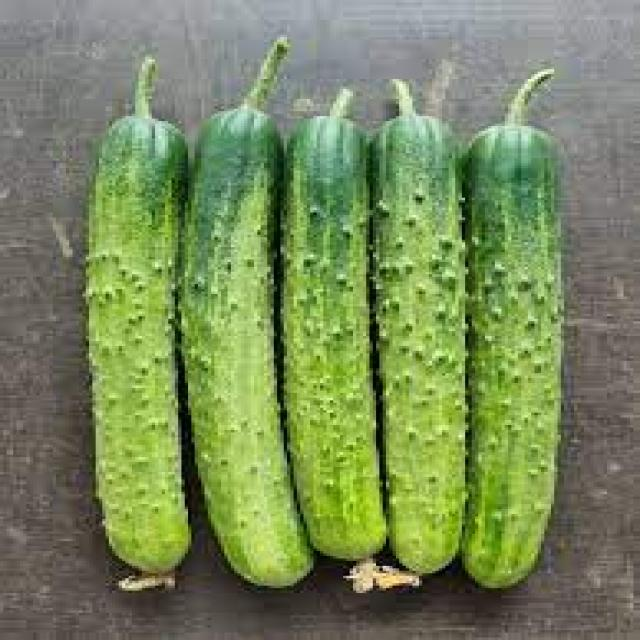cucumber: (182, 57, 314, 590), (270, 52, 380, 586), (79, 54, 188, 588), (462, 69, 571, 603), (359, 45, 468, 578)
